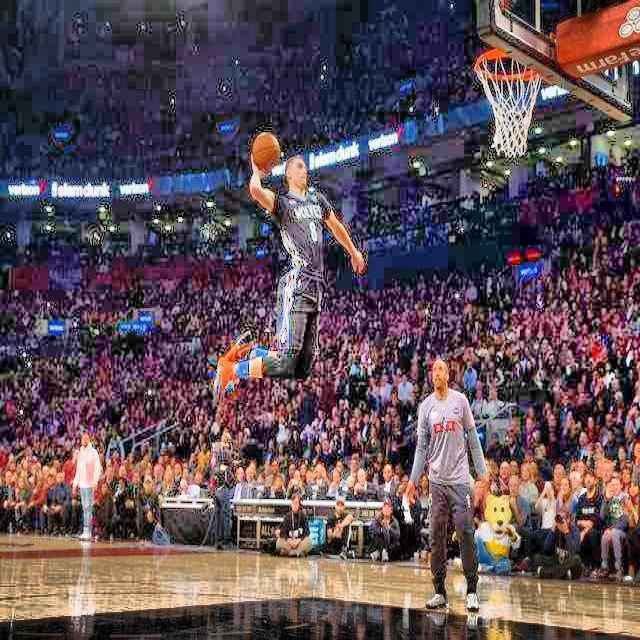board: (253, 133, 280, 170)
rim: (476, 47, 542, 157)
